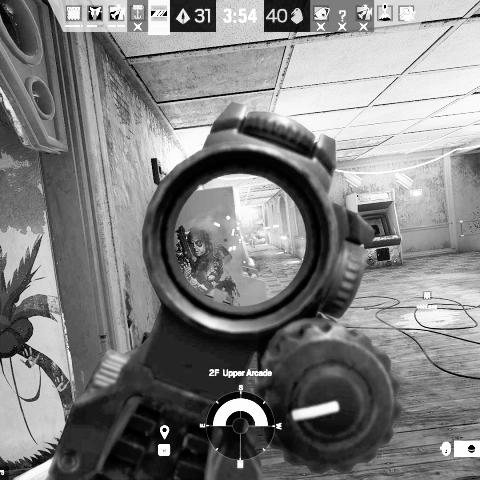Character: (248, 226, 258, 248)
Friend_label: (416, 290, 438, 310)
